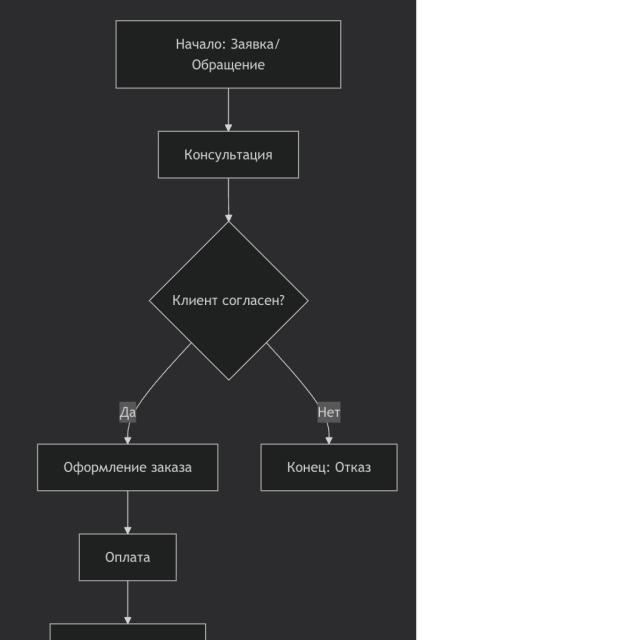arrow: (136, 342, 191, 409), (267, 343, 317, 404), (225, 89, 232, 131), (125, 581, 131, 624), (125, 491, 131, 534), (226, 179, 231, 221)
diamond: (150, 223, 307, 379)
rectangle: (116, 20, 341, 88), (37, 444, 218, 491), (158, 130, 299, 178), (261, 444, 397, 491), (79, 533, 177, 581)
